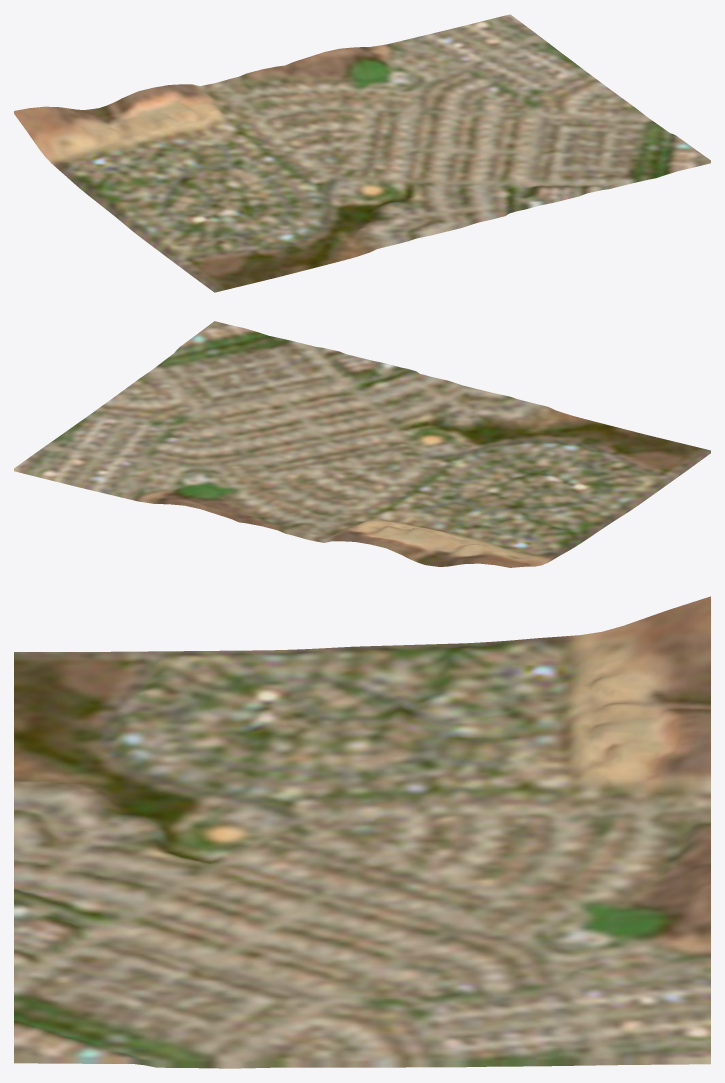
File: terrain_r2_c4_lod1.glb
The picture shows the model from 3 angles, top to bottom: view 1: azimuth 30°, elevation 25°; view 2: azimuth 150°, elevation 25°; view 3: azimuth 270°, elevation 25°; orthographic projection. The views are drawn at different scales.
Visible parts, largest first — view 1: terrain_r2_c4_lod1; view 2: terrain_r2_c4_lod1; view 3: terrain_r2_c4_lod1.
Boxes of the visible parts, x1,y1,x2,y2 form: terrain_r2_c4_lod1: (14,14,710,292); terrain_r2_c4_lod1: (14,321,710,567); terrain_r2_c4_lod1: (14,596,710,1068).
Size of the model in its own units: 1125 by 75.74 by 787.
1 material, 1 textured.
